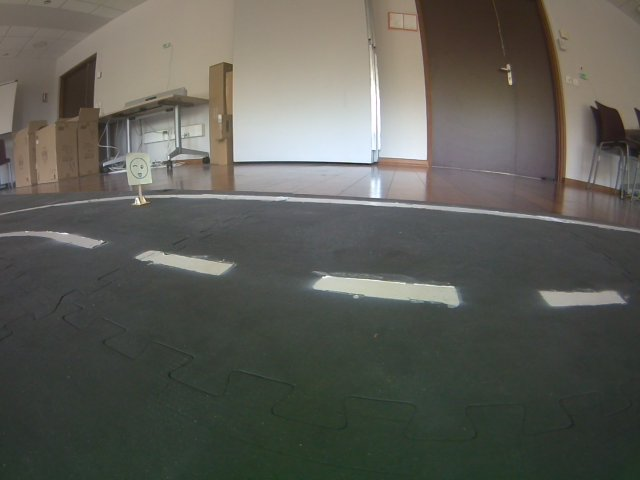Smiley: (125, 151, 155, 186)
